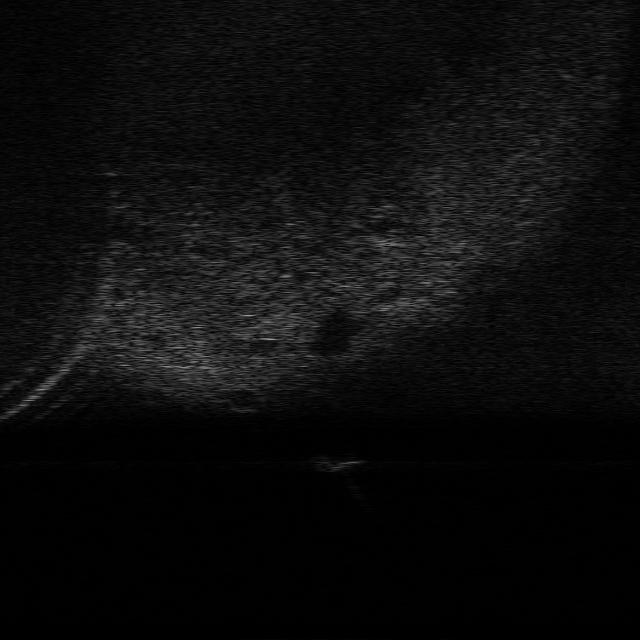cube: (310, 454, 365, 473)
